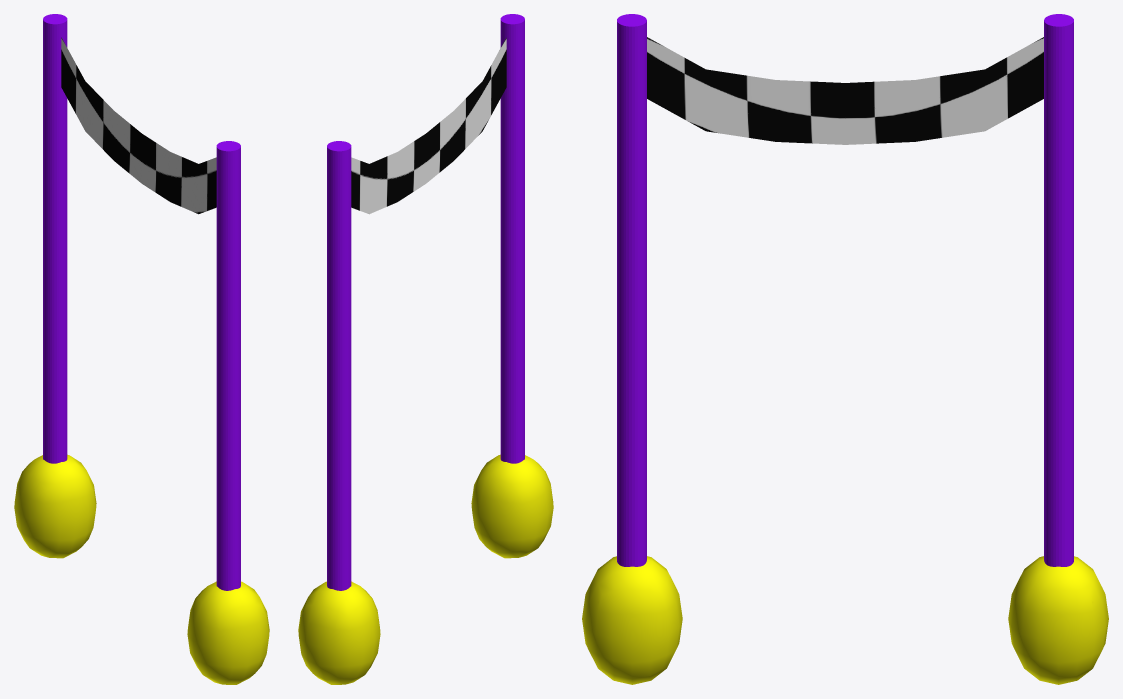
File: Linea_De_Meta.fbx
3 renders of one model, left to right at view 1: azimuth 30°, elevation 25°; view 2: azimuth 150°, elevation 25°; view 3: azimuth 270°, elevation 25°, orthographic. The views are drawn at different scales.
Visible parts, largest first — view 1: Cylinder; view 2: Cylinder; view 3: Cylinder.
Boxes of the visible parts, bbox=[...] form: Cylinder: bbox=[14, 14, 269, 684]; Cylinder: bbox=[298, 14, 553, 684]; Cylinder: bbox=[582, 14, 1108, 684].
Size of the model in its own units: 168 by 1214 by 878.
1 material, 1 textured.
